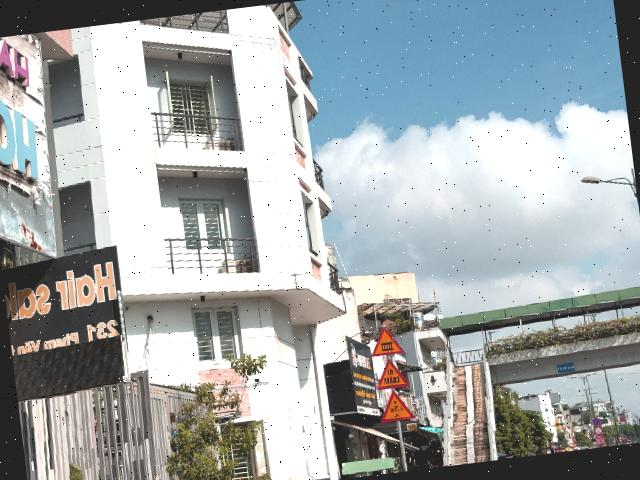chieu-cao-tinh-khong-thuc-te: (377, 388, 415, 423)
di-cham: (372, 356, 409, 390)
noi-giao-nhau-voi-duong-sat-co-rao-chan: (368, 324, 404, 358)
